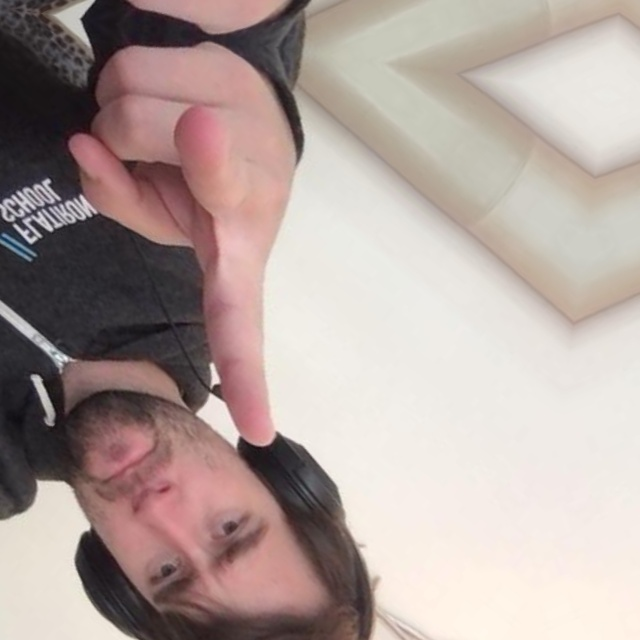Scissors: (0, 0, 549, 78)
